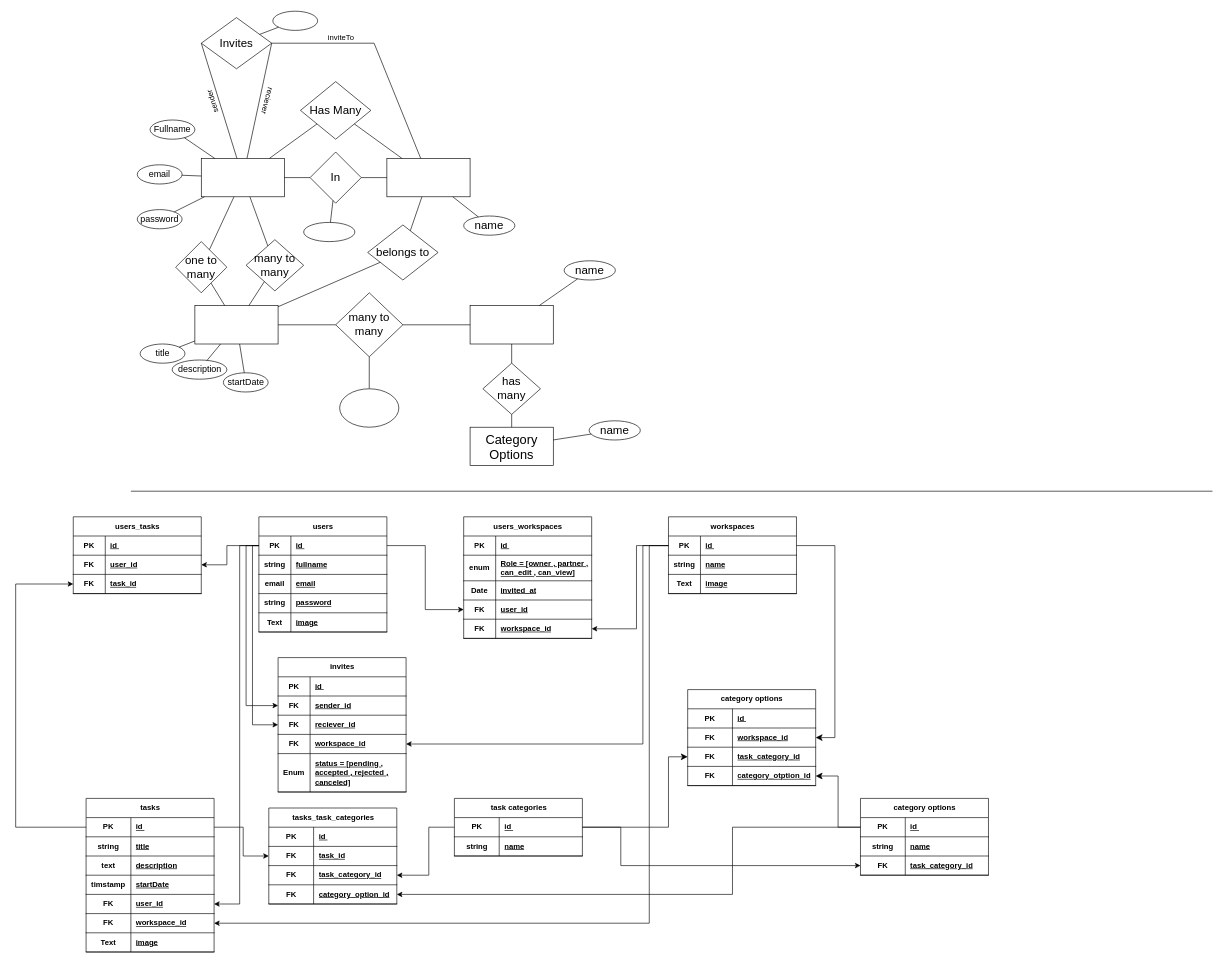
Image size: 1224x963. Some labels were removed from this diagram. Each missing label, with the centre of its shape:
"category option (id)" belongs at point 369,407.
"Role" belongs at point 329,232.
"status" belongs at point 295,20.
"Task" belongs at point 236,324.
"Task Category" belongs at point 511,324.
"User" belongs at point 242,177.
"Workspace" belongs at point 428,177.
